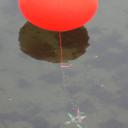red: (18, 0, 98, 32)
